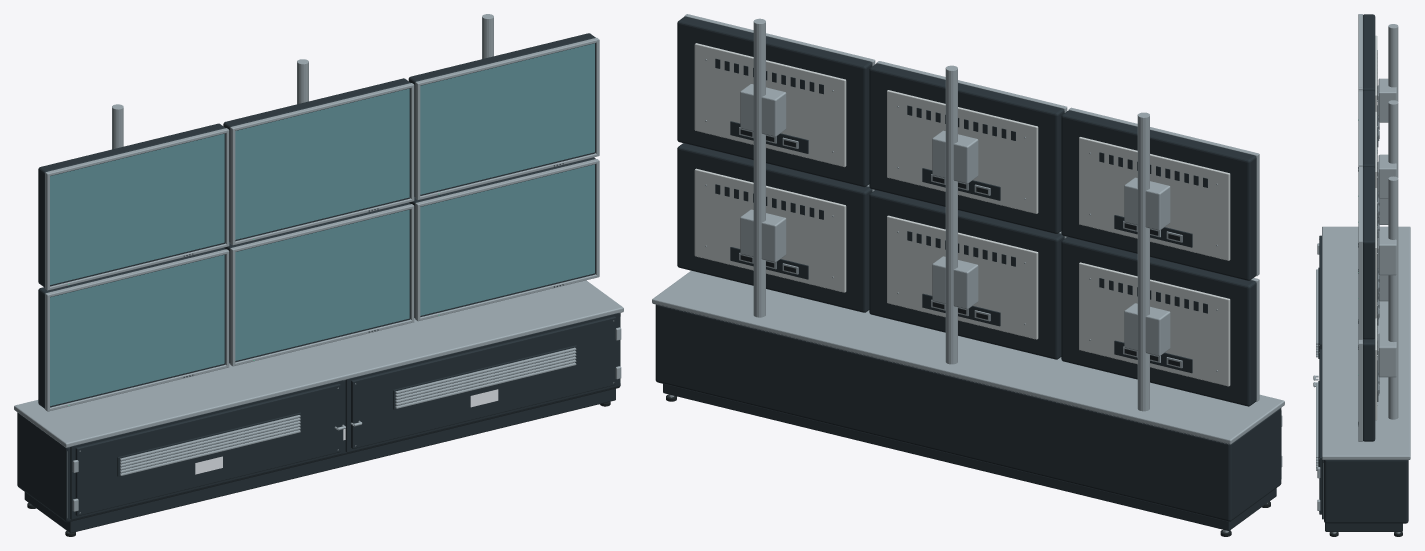
Rendered from SF_CentralVideoWall.fbx.
The picture shows the model from 3 angles, left to right: view 1: azimuth 30°, elevation 25°; view 2: azimuth 150°, elevation 25°; view 3: azimuth 270°, elevation 25°; orthographic projection. The views are drawn at different scales.
Visible parts, largest first — view 1: SF_CentralVideoWall; view 2: SF_CentralVideoWall; view 3: SF_CentralVideoWall.
Part boxes in pixels (x1=…): SF_CentralVideoWall: x1=14, y1=14, x2=623, y2=536; SF_CentralVideoWall: x1=652, y1=14, x2=1284, y2=536; SF_CentralVideoWall: x1=1313, y1=14, x2=1410, y2=536.
Size of the model in its own units: 482 by 316 by 86.12.
